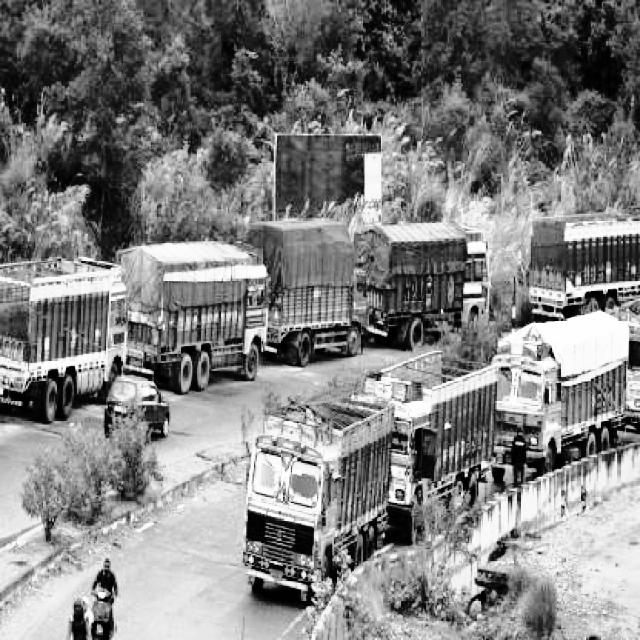HCV: (240, 411, 388, 563), (130, 209, 274, 362), (1, 260, 134, 406), (380, 354, 501, 484), (500, 326, 629, 442), (260, 215, 362, 352), (525, 215, 639, 302), (374, 232, 500, 302)
